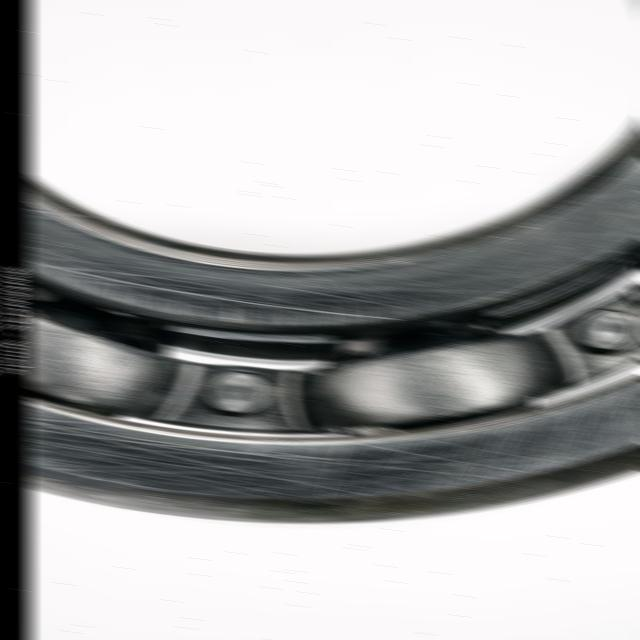Bearing: (27, 0, 640, 537)
